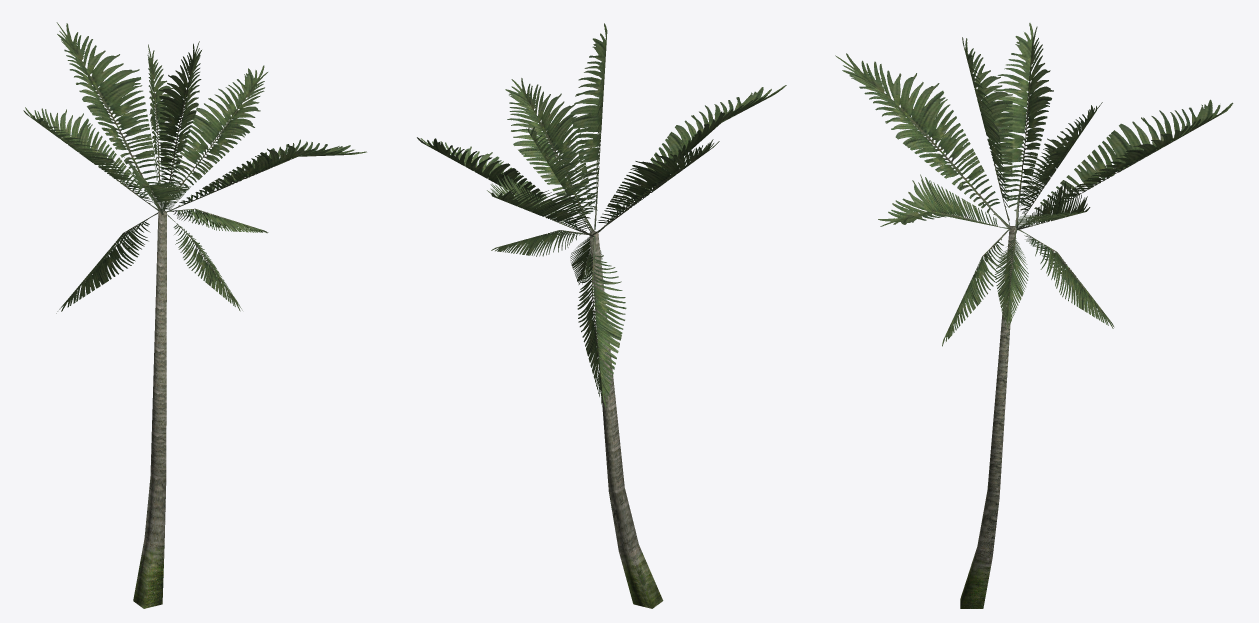
Rendered from ever_palmtree_sm_l1.fbx.
3 views of the same model, side by side, from view 1: azimuth 30°, elevation 25°; view 2: azimuth 150°, elevation 25°; view 3: azimuth 270°, elevation 25° (orthographic). The views are drawn at different scales.
Parts seen in each view (by area): view 1: mesh_node; view 2: mesh_node; view 3: mesh_node.
Boxes of the visible parts, left/top/right/bottom form: mesh_node: left=23, top=22, right=366, bottom=608; mesh_node: left=417, top=23, right=786, bottom=608; mesh_node: left=835, top=23, right=1233, bottom=608.
Bounding box in the file's own units: 7.76 × 14.55 × 9.15.
Materials: 3 (3 with a texture image).
